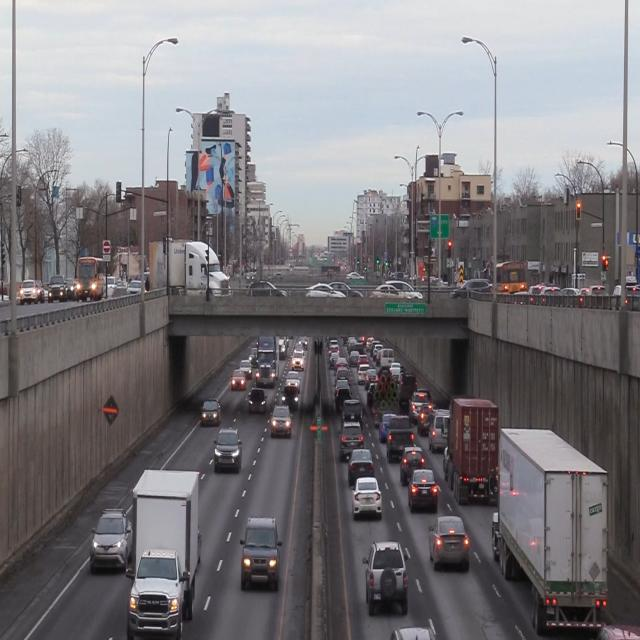Car: (491, 429, 611, 634), (128, 473, 201, 638), (448, 395, 497, 501), (362, 538, 412, 618), (241, 514, 282, 589), (92, 506, 134, 576), (429, 516, 472, 579), (351, 477, 383, 522), (213, 427, 243, 473), (254, 337, 282, 386), (408, 472, 438, 512), (387, 416, 415, 457), (399, 445, 424, 486), (347, 451, 376, 482), (340, 424, 366, 457), (270, 405, 293, 440), (200, 397, 222, 427), (245, 388, 268, 416), (282, 386, 300, 412)
